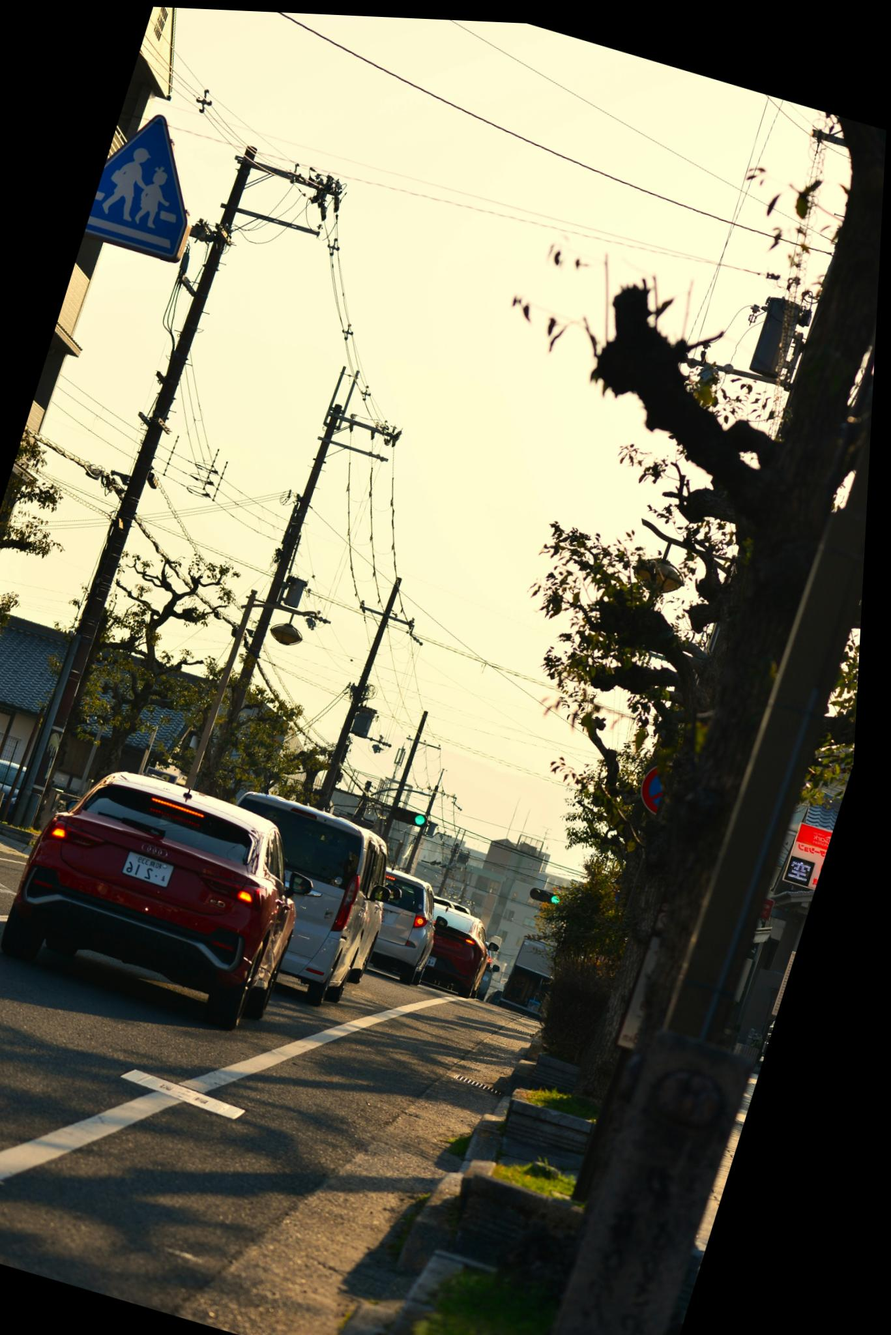cone: (69, 27, 148, 275)
stop_sign: (629, 738, 695, 835)
